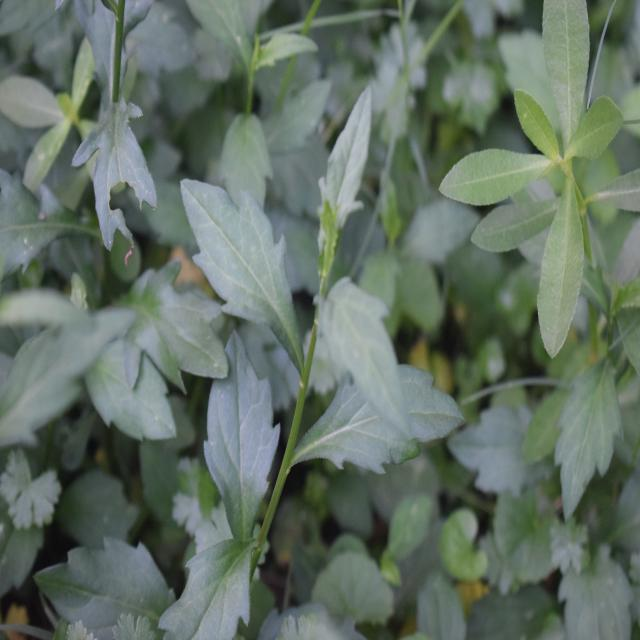Indian aster: (178, 122, 453, 520)
